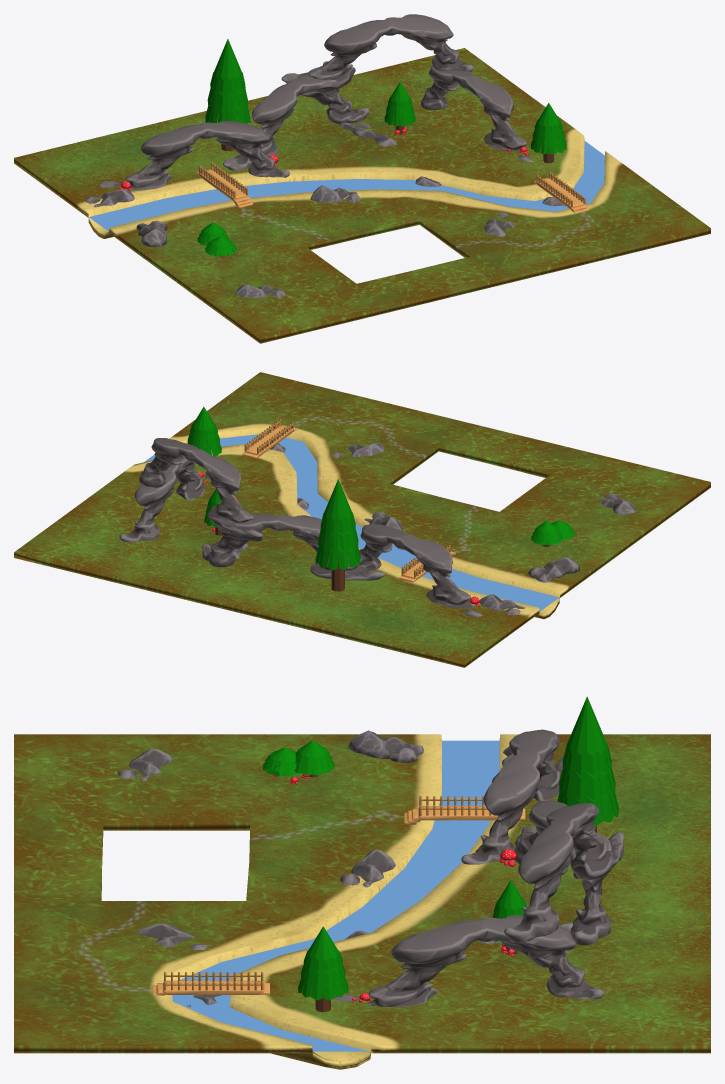
Rendered from map_meteorite.glb.
3 views of the same model, one above another, from view 1: azimuth 30°, elevation 25°; view 2: azimuth 150°, elevation 25°; view 3: azimuth 270°, elevation 25° (orthographic). The views are drawn at different scales.
Visible parts, largest first — view 1: world, stone, water, tree, mini_stone, bridge; view 2: world, stone, tree, water, mini_stone, bridge; view 3: world, stone, water, tree, mini_stone, bridge.
Boxes of the visible parts, x1,y1,x2,y2 form: world: (14, 48, 710, 343); stone: (99, 14, 532, 190); water: (89, 141, 604, 231); tree: (197, 39, 566, 256); mini_stone: (85, 122, 565, 297); bridge: (196, 162, 589, 213); world: (14, 372, 710, 667); stone: (119, 438, 481, 617); tree: (187, 406, 574, 591); water: (144, 433, 558, 611); mini_stone: (232, 442, 635, 615); bridge: (242, 419, 455, 582); world: (14, 734, 710, 1069); stone: (333, 729, 624, 1006); water: (172, 740, 499, 1051); tree: (262, 696, 618, 1012); mini_stone: (117, 730, 572, 1007); bridge: (152, 796, 525, 995).
Size of the model in its own units: 20.02 by 5.46 by 18.93.
Materials: 9 (6 with a texture image).
